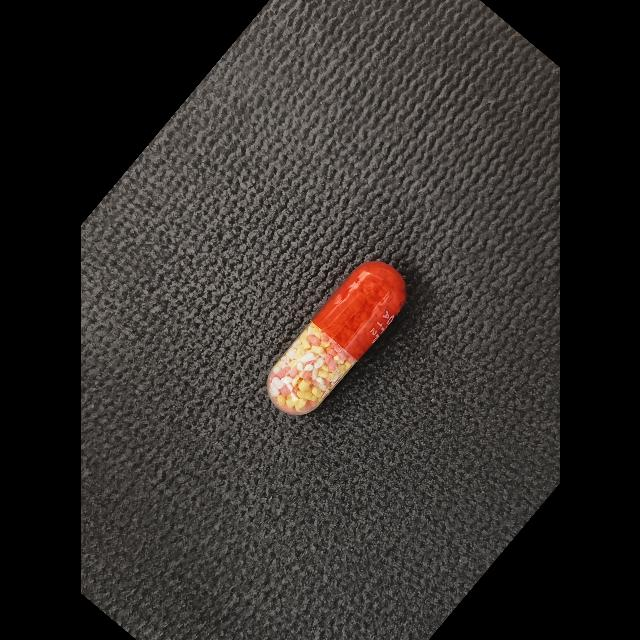Intact Capsule: (266, 261, 405, 415)
